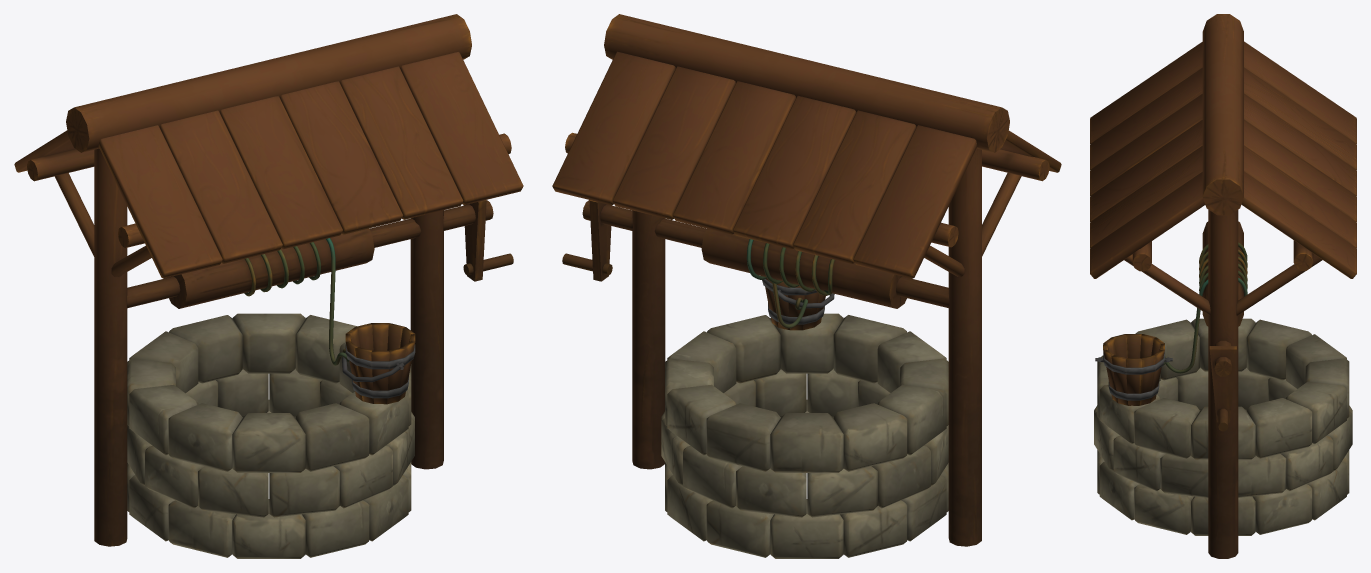
The picture shows the model from 3 angles, left to right: view 1: azimuth 30°, elevation 25°; view 2: azimuth 150°, elevation 25°; view 3: azimuth 270°, elevation 25°; orthographic projection. The views are drawn at different scales.
Parts seen in each view (by area): view 1: wood.001_low_4, wood.002_low_5, roof_low.001_39, roof.005_low.001_38, roof.001_low.001_34, roof.003_low.001_36, roof.002_low.001_35, roof.004_low.001_37, wood_low_0, wood.010_low_1, pail_low_9, stone_low.002_52 (+30 smaller); view 2: wood.001_low_4, wood.002_low_5, roof.001_low_2, roof.002_low_29, roof.005_low_32, roof_low_33, roof.003_low_30, roof.004_low_31, wood_low_0, wood.010_low_1, stone.010_low.002_62, stone.009_low.002_61 (+32 smaller); view 3: wood_low_0, wood.001_low_4, roof_low_33, roof.001_low.001_34, pail_low_9, stone.007_low.002_59, roof.002_low_29, roof.001_low_2, roof.003_low_30, roof.004_low_31, roof.005_low_32, roof.005_low.001_38 (+37 smaller).
Boxes of the visible parts, <box> form: wood.001_low_4: <box>66,14,471,152</box>; wood.002_low_5: <box>94,148,127,546</box>; roof_low.001_39: <box>98,125,222,278</box>; roof.005_low.001_38: <box>159,110,282,263</box>; roof.001_low.001_34: <box>400,52,523,205</box>; roof.003_low.001_36: <box>280,81,403,234</box>; roof.002_low.001_35: <box>340,66,463,219</box>; roof.004_low.001_37: <box>220,96,342,249</box>; wood_low_0: <box>410,210,443,469</box>; wood.010_low_1: <box>164,228,374,308</box>; pail_low_9: <box>345,323,415,404</box>; stone_low.002_52: <box>232,413,305,472</box>; wood.001_low_4: <box>604,14,1009,152</box>; wood.002_low_5: <box>948,148,981,546</box>; roof.001_low_2: <box>853,125,977,278</box>; roof.002_low_29: <box>793,110,916,263</box>; roof.005_low_32: <box>612,66,735,219</box>; roof_low_33: <box>552,51,675,205</box>; roof.003_low_30: <box>733,95,856,249</box>; roof.004_low_31: <box>672,81,795,234</box>; wood_low_0: <box>632,210,665,469</box>; wood.010_low_1: <box>701,228,906,308</box>; stone.010_low.002_62: <box>770,413,843,472</box>; stone.009_low.002_61: <box>706,403,780,471</box>; wood_low_0: <box>1208,210,1238,558</box>; wood.001_low_4: <box>1202,14,1243,215</box>; roof_low_33: <box>1241,171,1356,278</box>; roof.001_low.001_34: <box>1090,172,1205,278</box>; pail_low_9: <box>1103,334,1164,405</box>; stone.007_low.002_59: <box>1246,398,1312,458</box>; roof.002_low_29: <box>1244,67,1356,169</box>; roof.001_low_2: <box>1244,41,1356,143</box>; roof.003_low_30: <box>1244,93,1356,195</box>; roof.004_low_31: <box>1244,119,1356,221</box>; roof.005_low_32: <box>1244,145,1356,247</box>; roof.005_low.001_38: <box>1090,68,1202,169</box>.
Bounding box in the file's own units: 6.3 × 6.08 × 3.79.
1 material, 1 textured.
